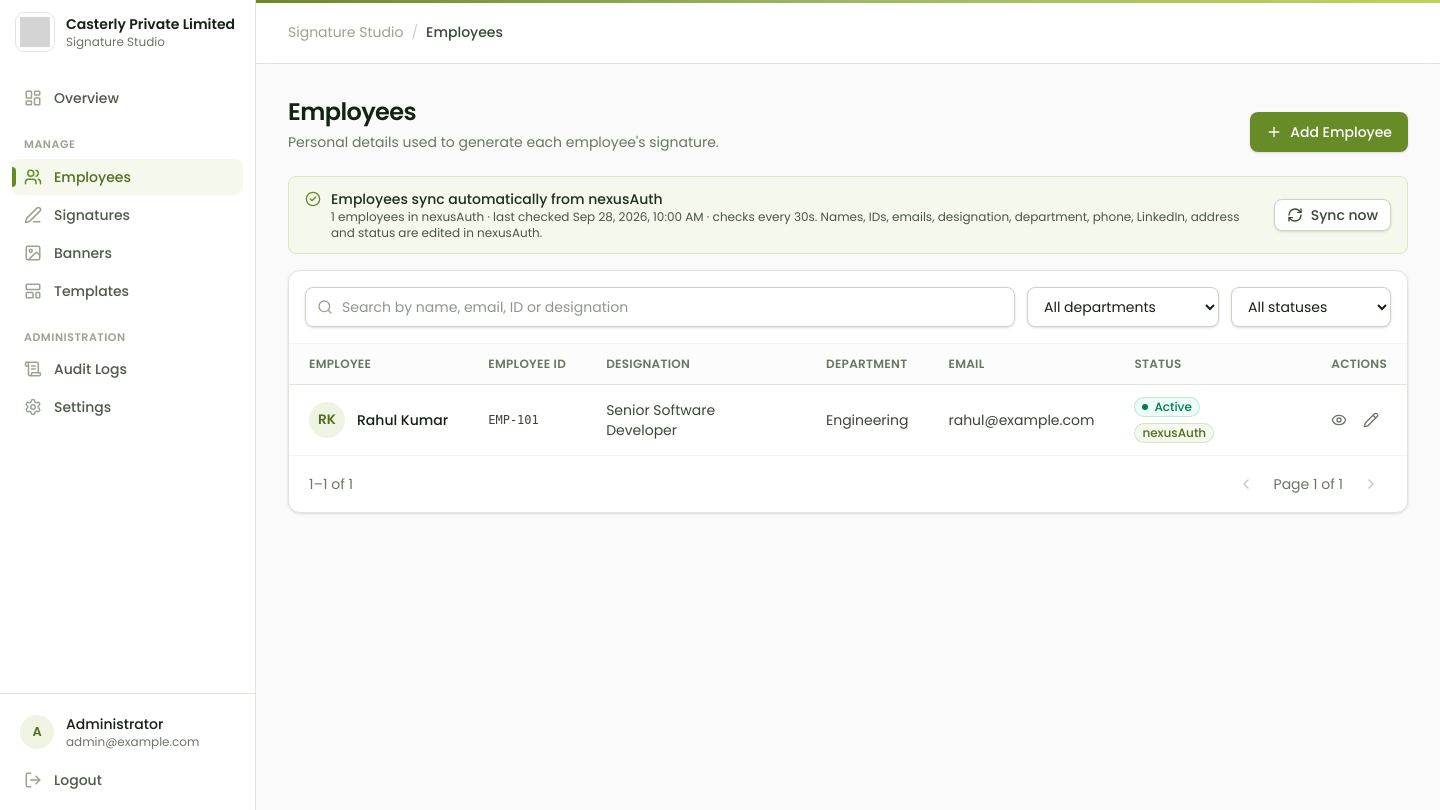
Test case: nexusAuth sync › locks the synced fields in the edit form
Click the button named "Edit Rahul Kumar".
click(1371, 420)  # box 1355,404 -> 1387,436
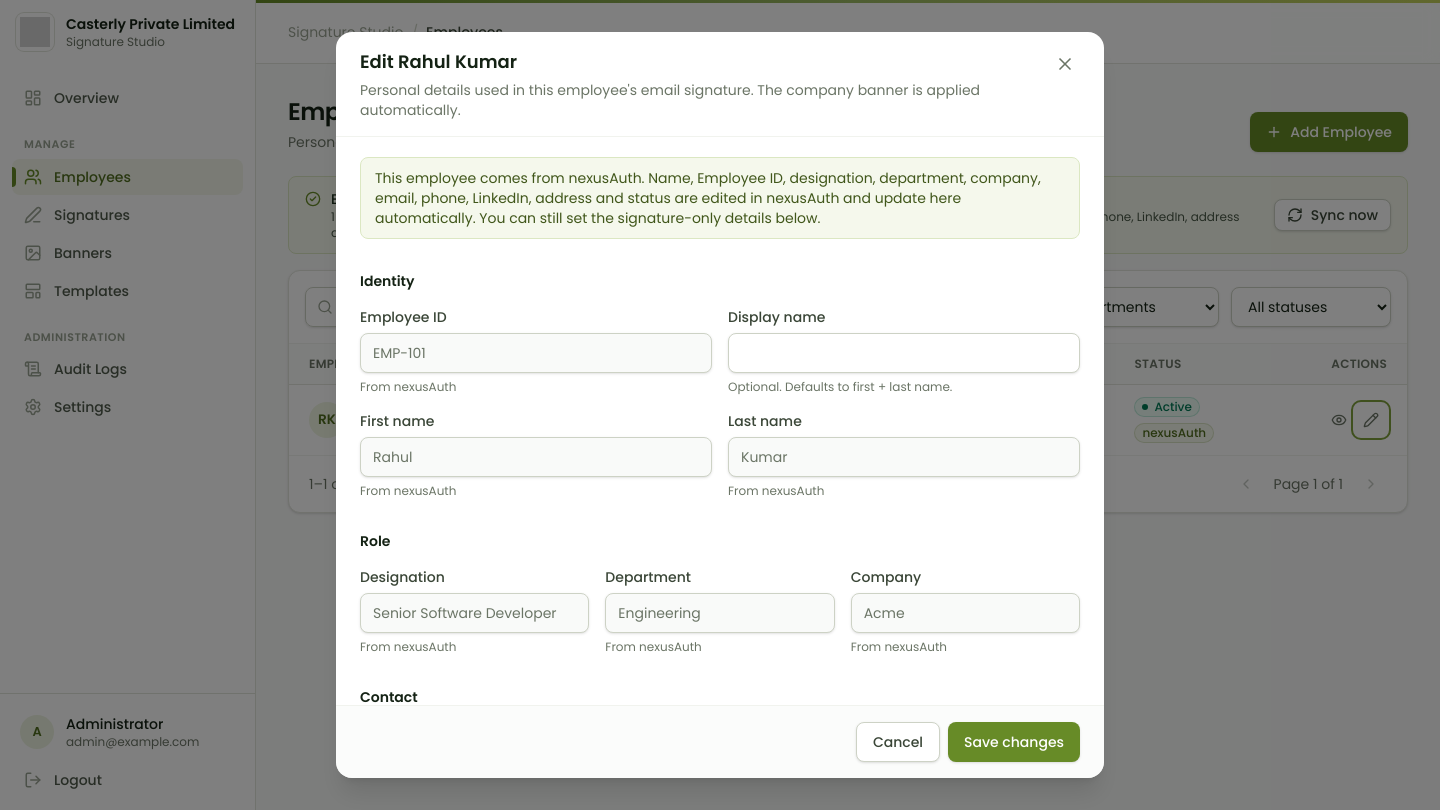
Expected: the field labelled "First name" is disabled, 360,437 -> 712,477
Expected: the text "This employee comes from nexusAuth" is shown, 375,168 -> 1041,228
